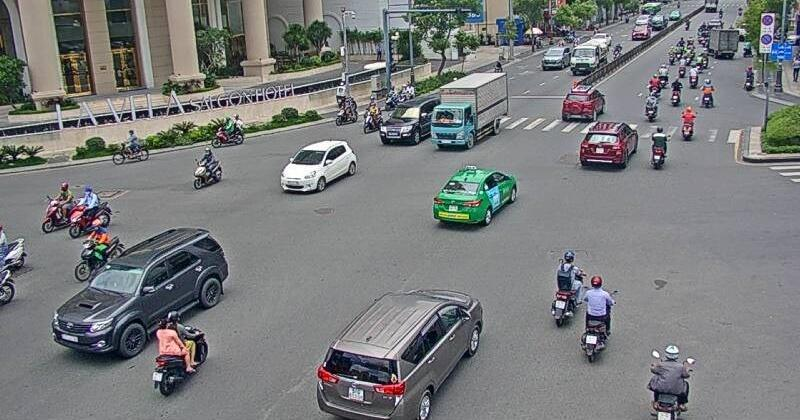xe hoi: (52, 226, 230, 362), (311, 286, 484, 420), (433, 165, 520, 229), (280, 139, 357, 192), (578, 116, 639, 171), (379, 95, 441, 144)
xe may: (150, 309, 210, 395), (647, 341, 695, 420), (579, 274, 617, 363), (73, 218, 125, 281), (549, 248, 584, 327), (69, 185, 114, 237), (42, 179, 81, 235), (110, 127, 149, 165), (192, 145, 223, 191), (212, 112, 246, 146)
xe tai: (432, 71, 509, 148)
